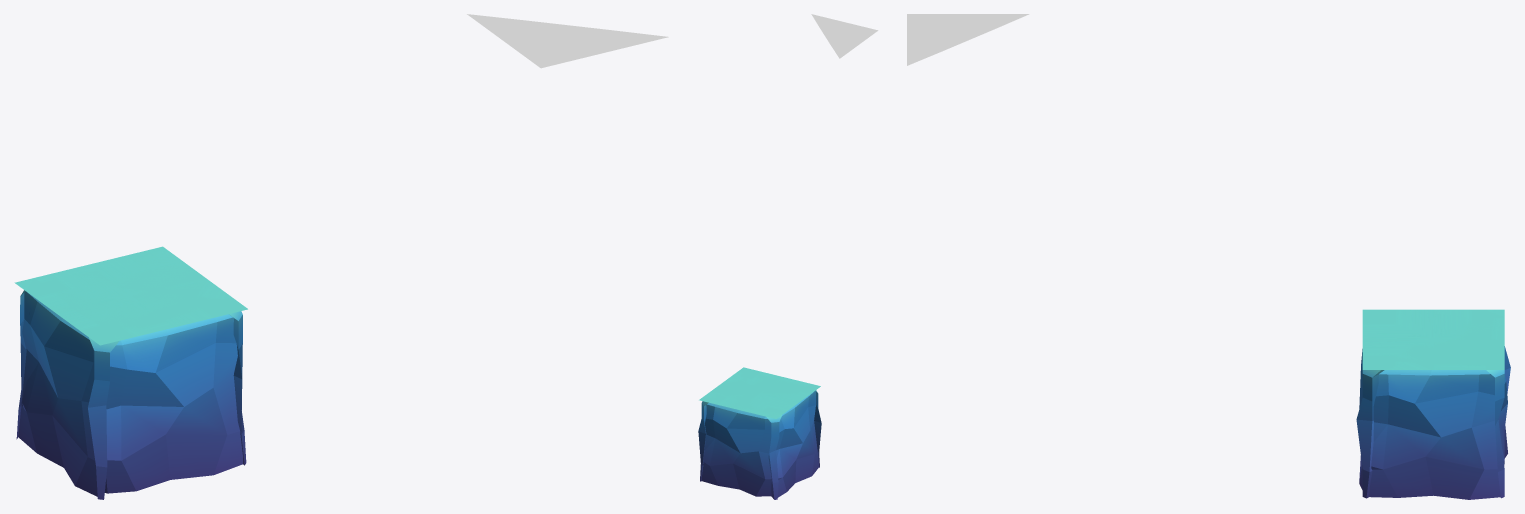
The model's file is ReadyBlocks.fbx.
3 views of the same model, side by side, from view 1: azimuth 30°, elevation 25°; view 2: azimuth 150°, elevation 25°; view 3: azimuth 270°, elevation 25° (orthographic). The views are drawn at different scales.
Visible parts, largest first — view 1: Side.012, Side.004, DiagonalTop.002, SideSmallRight.008, TopInnerCorner.011, OuterCorner.005, InnerCorner.015, TopInnerCorner.014, TopSide.004, TopInnerCorner.009, TopNoWalls.015, DiagonalCornerTop.004 (+6 smaller); view 2: Side.013, Side.004, DiagonalTop.002, OuterCorner.004, TopInnerCorner.011, InnerCorner.007, SideSmallLeft.008, DiagonalCornerTop.004, SideSmallRight.003, TopSide.016, InnerCorner.012, TopSide.004 (+7 smaller); view 3: Side.014, DiagonalTop.002, SideSmallRight.009, TopInnerCorner.014, TopInnerCorner.011, DiagonalCornerTop.004, SideSmallLeft.009, InnerCorner.014, TopInnerCorner.013, InnerCorner.012, TopSide.005.
Boxes of the visible parts, bbox=[...] form: Side.012: bbox=[121, 318, 227, 491]; Side.004: bbox=[26, 301, 93, 485]; DiagonalTop.002: bbox=[467, 14, 668, 68]; SideSmallRight.008: bbox=[213, 314, 242, 474]; TopInnerCorner.011: bbox=[26, 268, 130, 313]; OuterCorner.005: bbox=[104, 340, 135, 493]; InnerCorner.015: bbox=[88, 337, 119, 499]; TopInnerCorner.014: bbox=[57, 296, 157, 339]; TopSide.004: bbox=[74, 297, 173, 339]; TopInnerCorner.009: bbox=[89, 251, 197, 295]; TopNoWalls.015: bbox=[90, 246, 204, 293]; DiagonalCornerTop.004: bbox=[49, 252, 236, 300]; Side.013: bbox=[710, 404, 765, 496]; Side.004: bbox=[779, 396, 814, 491]; DiagonalTop.002: bbox=[811, 14, 878, 58]; OuterCorner.004: bbox=[756, 416, 782, 496]; TopInnerCorner.011: bbox=[749, 393, 798, 416]; InnerCorner.007: bbox=[766, 415, 781, 499]; SideSmallLeft.008: bbox=[701, 402, 718, 485]; DiagonalCornerTop.004: bbox=[708, 372, 753, 410]; SideSmallRight.003: bbox=[808, 390, 819, 475]; TopSide.016: bbox=[712, 387, 756, 405]; InnerCorner.012: bbox=[698, 401, 708, 481]; TopSide.004: bbox=[761, 377, 810, 397]; Side.014: bbox=[1383, 370, 1484, 499]; DiagonalTop.002: bbox=[907, 14, 1029, 65]; SideSmallRight.009: bbox=[1469, 370, 1500, 499]; TopInnerCorner.014: bbox=[1362, 309, 1433, 339]; TopInnerCorner.011: bbox=[1433, 309, 1504, 339]; DiagonalCornerTop.004: bbox=[1387, 339, 1504, 369]; SideSmallLeft.009: bbox=[1369, 370, 1397, 497]; InnerCorner.014: bbox=[1356, 370, 1380, 498]; TopInnerCorner.013: bbox=[1362, 340, 1433, 369]; InnerCorner.012: bbox=[1486, 370, 1504, 498]; TopSide.005: bbox=[1454, 317, 1504, 339].
Size of the model in its own units: 203 by 383 by 425.
